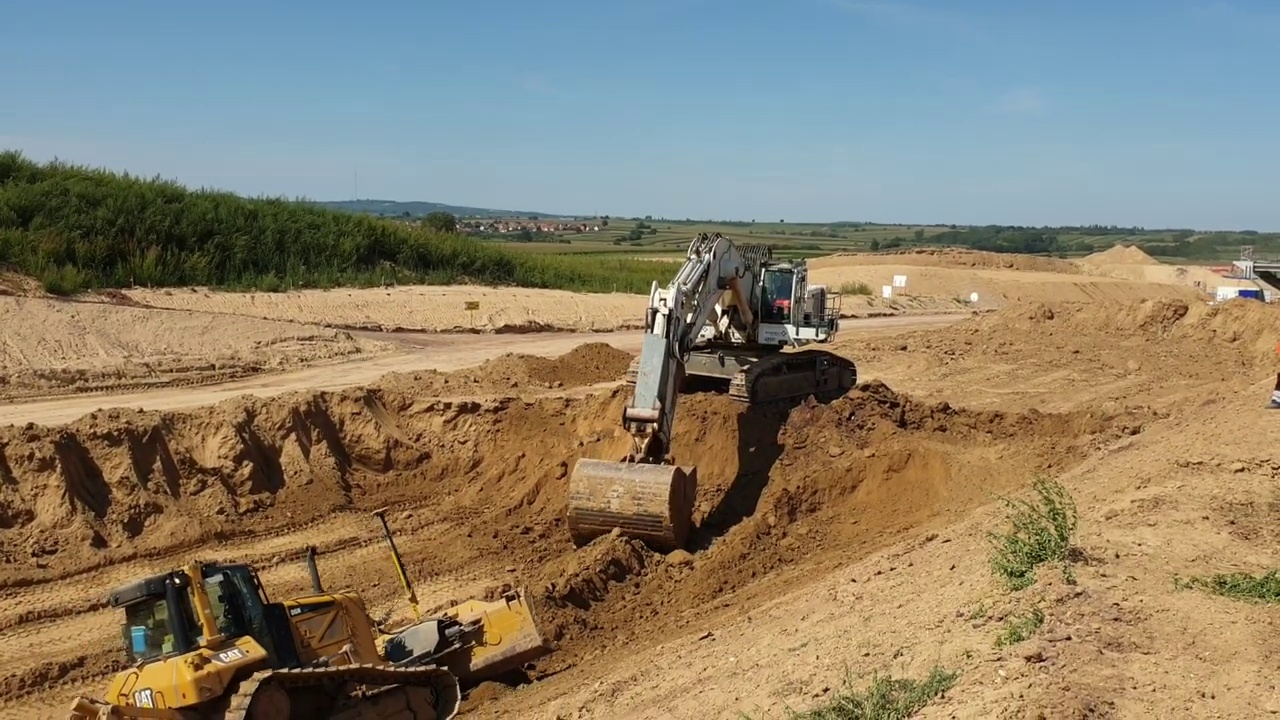bulldozer: (63, 502, 551, 720)
excavator: (566, 227, 861, 551)
